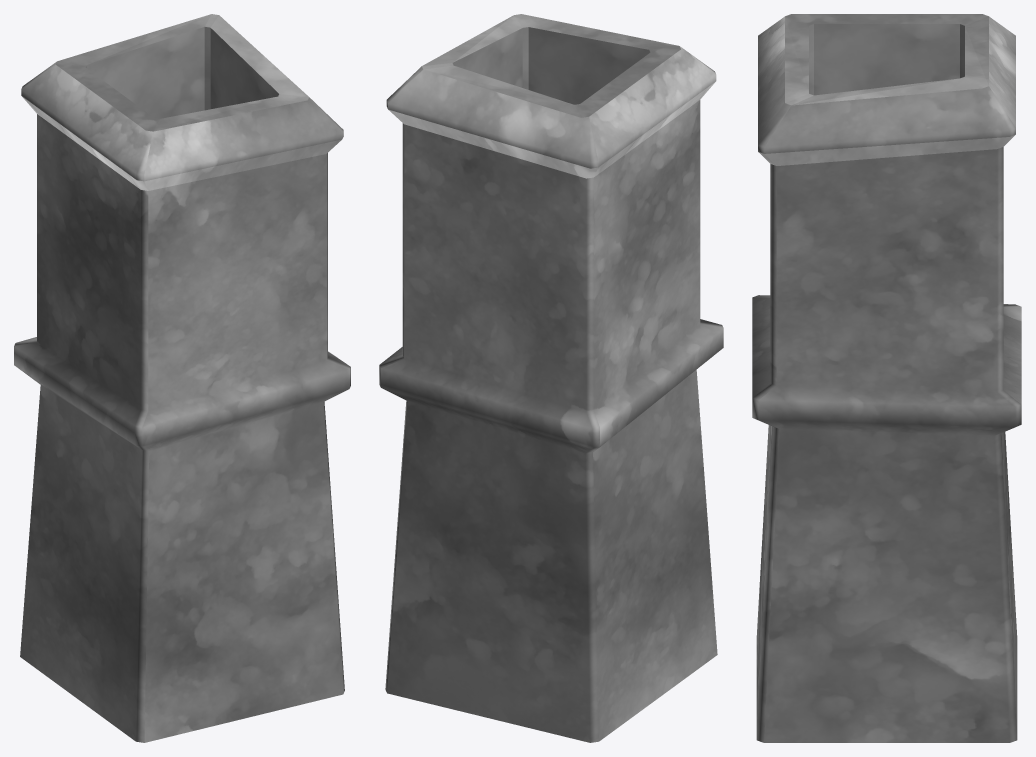
File: SM_Chimney_01b.fbx
3 renders of one model, left to right at view 1: azimuth 30°, elevation 25°; view 2: azimuth 150°, elevation 25°; view 3: azimuth 270°, elevation 25°, orthographic. The views are drawn at different scales.
Parts seen in each view (by area): view 1: SM_Chimney_01b_LOD0; view 2: SM_Chimney_01b_LOD0; view 3: SM_Chimney_01b_LOD0.
Part boxes in pixels (left/top/right/bottom): SM_Chimney_01b_LOD0: left=14, top=14, right=350, bottom=742; SM_Chimney_01b_LOD0: left=379, top=14, right=723, bottom=742; SM_Chimney_01b_LOD0: left=752, top=14, right=1021, bottom=742.
Size of the model in its own units: 68.59 by 69.8 by 184.
